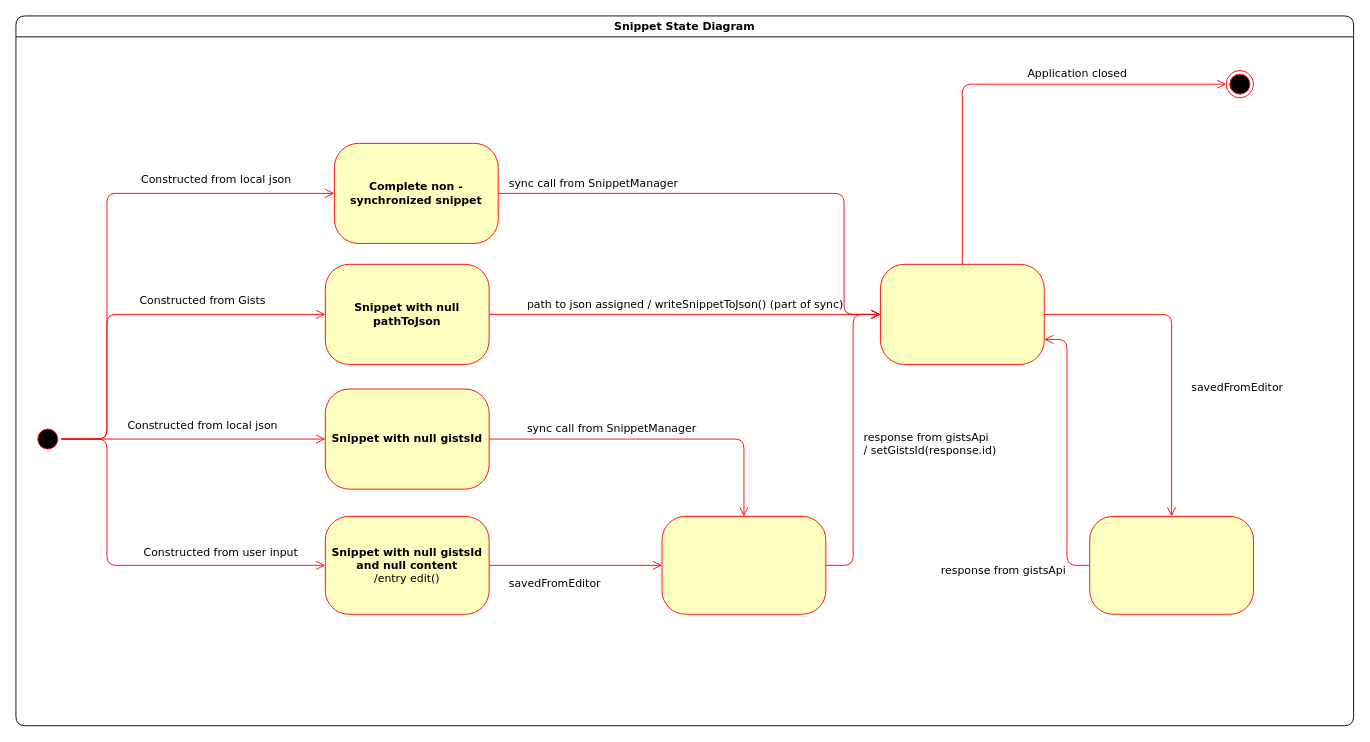
This 1370x742 diagram has some shape labels left out. Each missing label, with the centre of its shape:
Complete, synchronized snippet: pixel 962 313
Snippet with non- null gistsId waiting for response from gistsApi /entry sync(): pixel 1171 565
Snippet with null gistsId waiting for response from gistsApi /entry sync(): pixel 743 565
